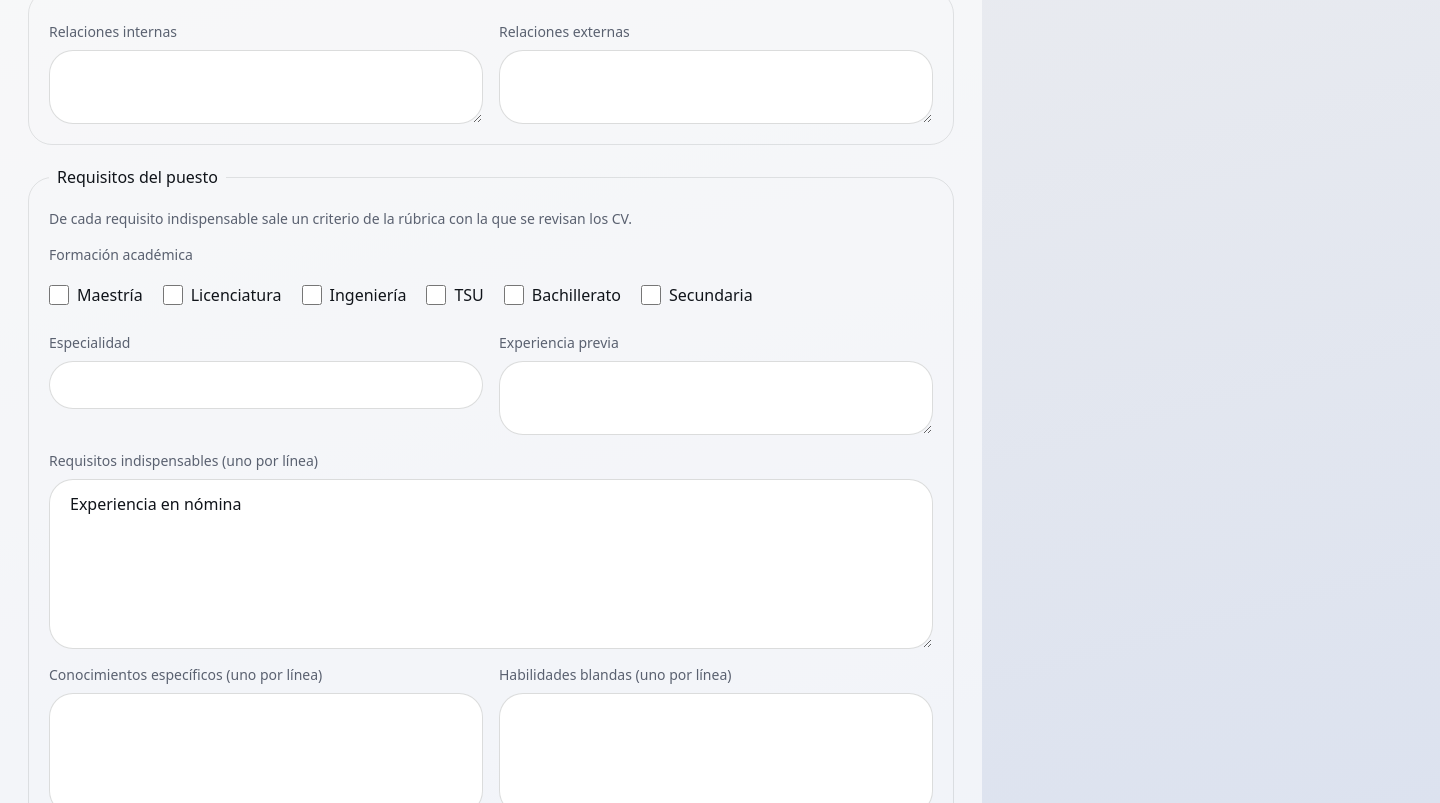
it: EvaluationWorkspace › muestra el motivo si el perfil no se puede guardar
(page scrolled)
Type "Dos años" into the text box labelled "Experiencia previa".
click(716, 398); type("Dos años")  # box [499,361,933,435]
(page scrolled)
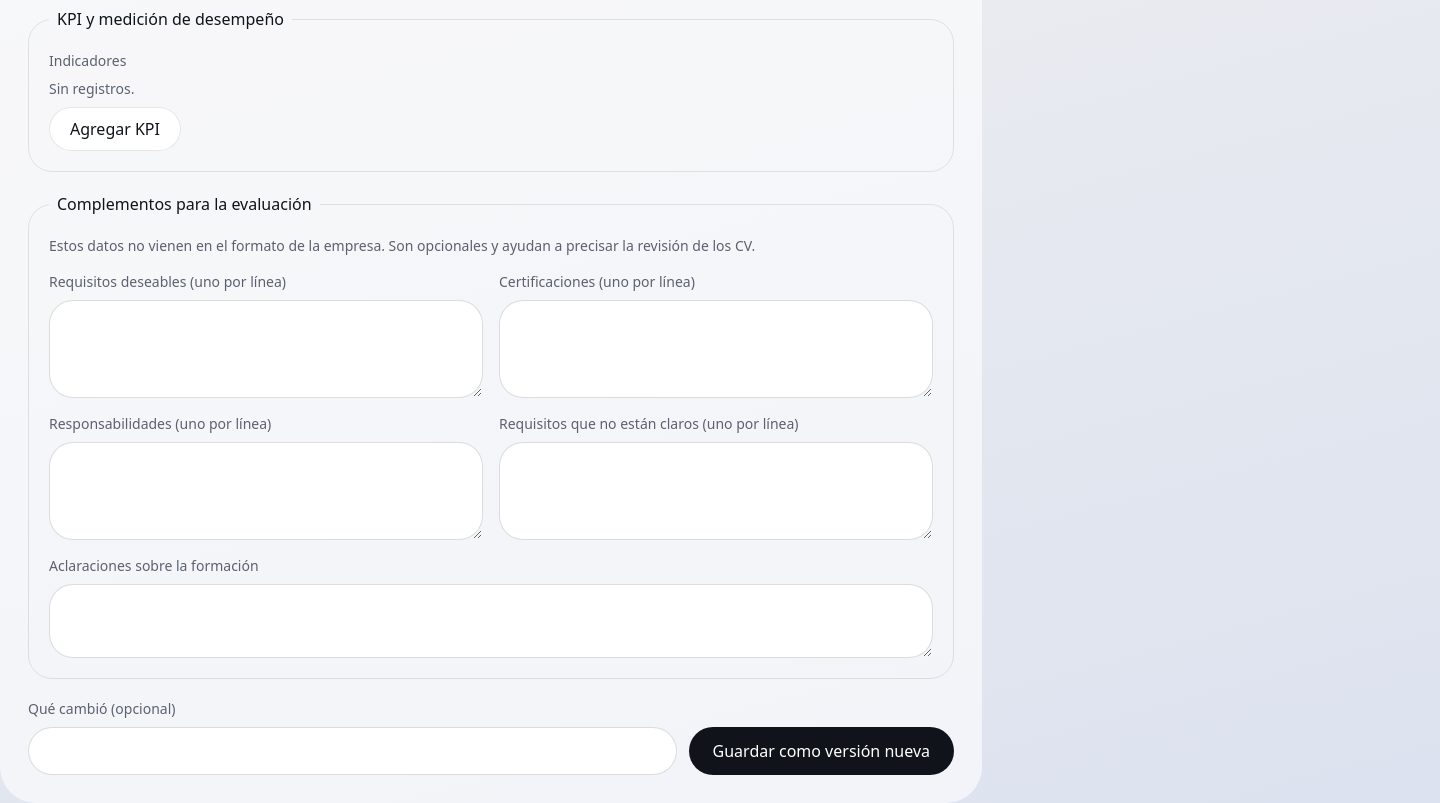
Click the button "Guardar como versión nueva".
click(821, 751)  # box [689,727,954,775]
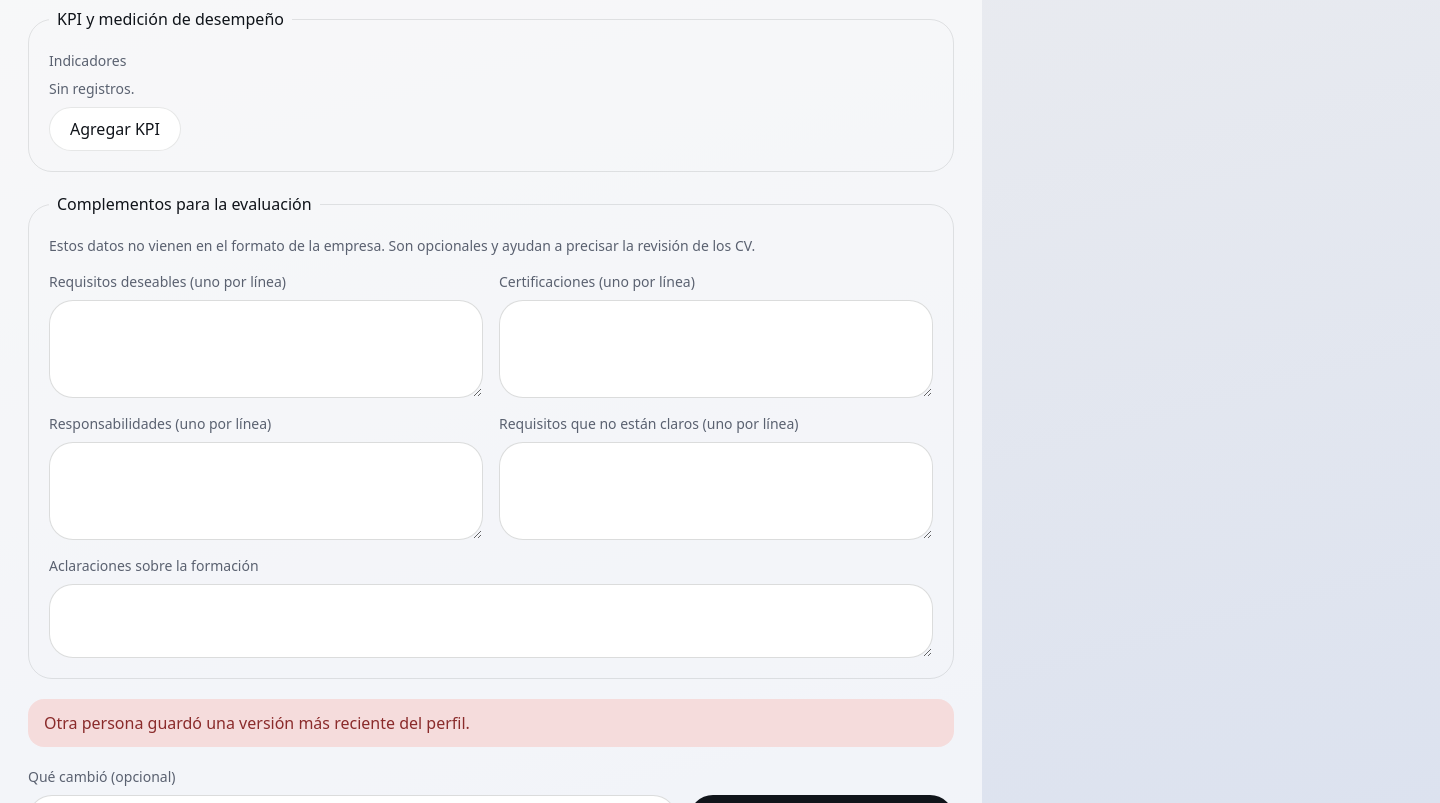
Now the message shows "versión más reciente", box [44,712,470,734]
